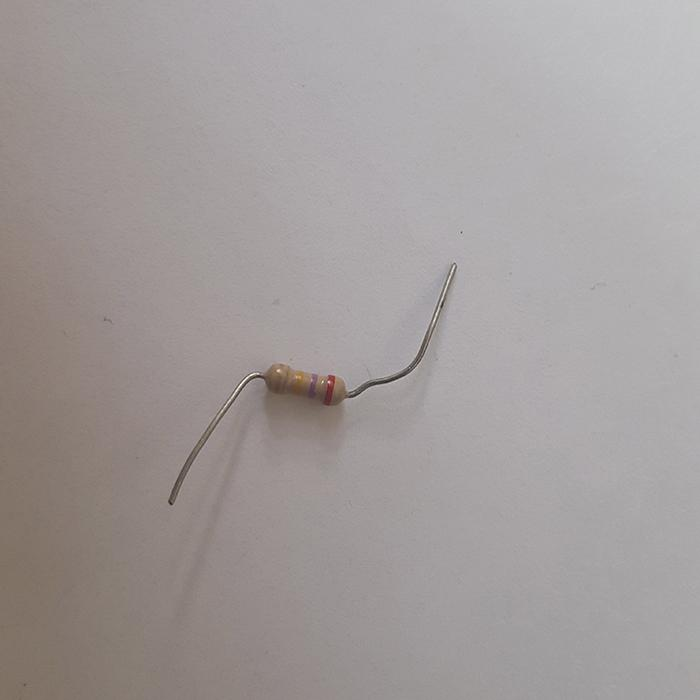resistor: (263, 362, 349, 407)
